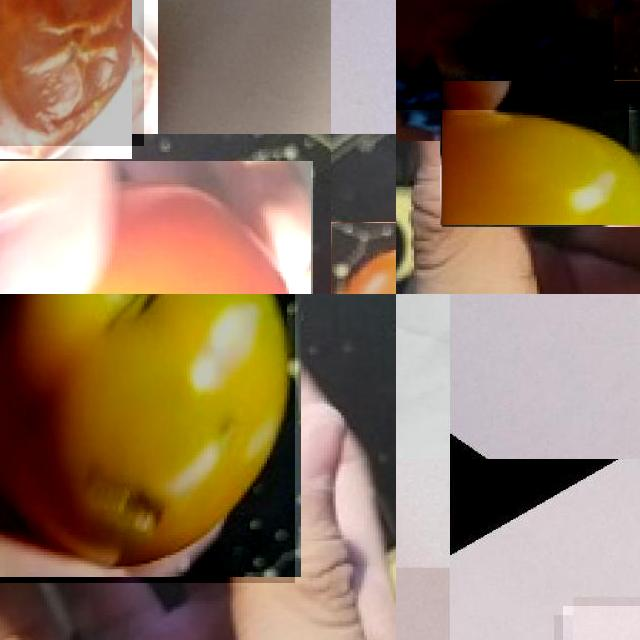1: (0, 294, 295, 583)
Fresh Tomato: (0, 161, 313, 294)
Rotten Tomato: (441, 80, 640, 225), (396, 0, 640, 110), (0, 0, 144, 146)
